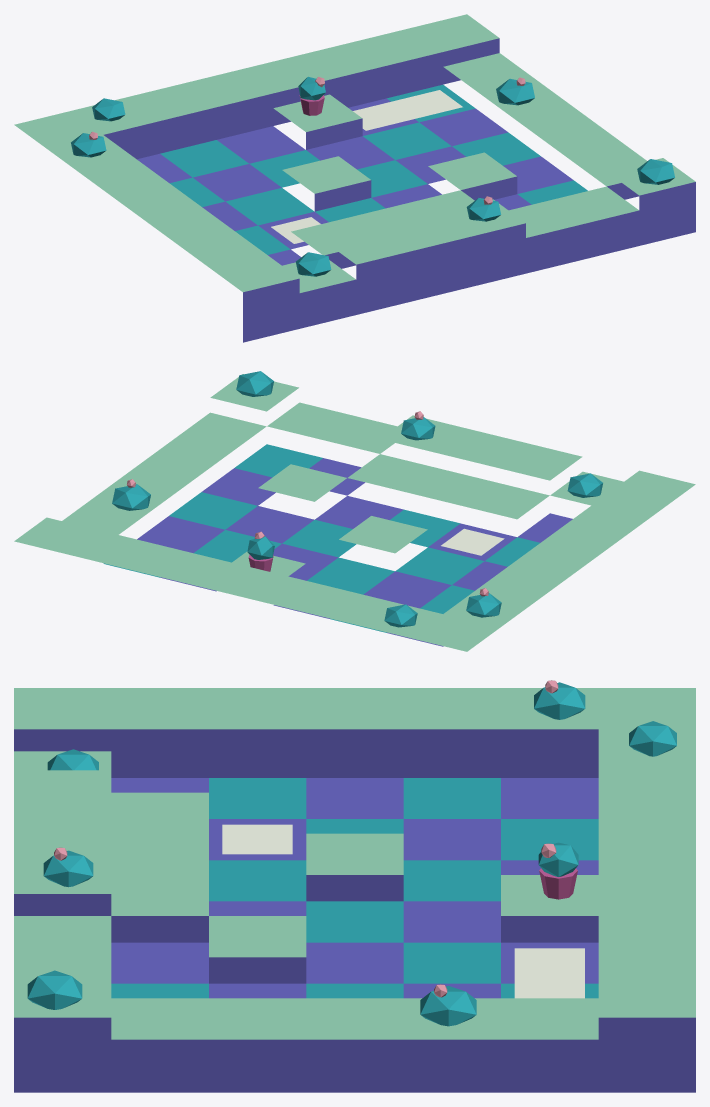
The model's file is room5.glb.
3 views of the same model, one above another, from view 1: azimuth 30°, elevation 25°; view 2: azimuth 150°, elevation 25°; view 3: azimuth 270°, elevation 25° (orthographic). The views are drawn at different scales.
Parts seen in each view (by area): view 1: Room, Bush0, Bush1, Bush2, Bush4, Bush5, Bush6; view 2: Room, Bush0, Bush1, Bush2, Bush4, Bush5, Bush6, PotLeaf3; view 3: Room, Bush1, Bush0, Bush4, Bush5, Bush6, PotLeaf3, Bush2, Pot3.
Part boxes in pixels (x1,y1,x2,y2): Room: (14, 14, 695, 342); Bush0: (496, 78, 534, 105); Bush1: (637, 159, 674, 184); Bush2: (296, 252, 331, 276); Bush4: (71, 133, 106, 157); Bush5: (466, 198, 501, 221); Bush6: (92, 98, 125, 121); Room: (14, 374, 695, 651); Bush0: (112, 484, 150, 510); Bush1: (236, 371, 273, 396); Bush2: (567, 473, 602, 497); Bush4: (466, 593, 501, 617); Bush5: (401, 417, 435, 440); Bush6: (384, 604, 417, 627); PotLeaf3: (247, 536, 274, 559); Room: (14, 688, 695, 1092); Bush1: (27, 970, 82, 1009); Bush0: (420, 985, 476, 1026); Bush4: (534, 682, 585, 719); Bush5: (43, 850, 93, 887); Bush6: (629, 721, 676, 756); PotLeaf3: (538, 842, 578, 876); Bush2: (47, 749, 98, 770); Pot3: (539, 868, 577, 899).
Size of the model in its own units: 8 by 1.2 by 7.
